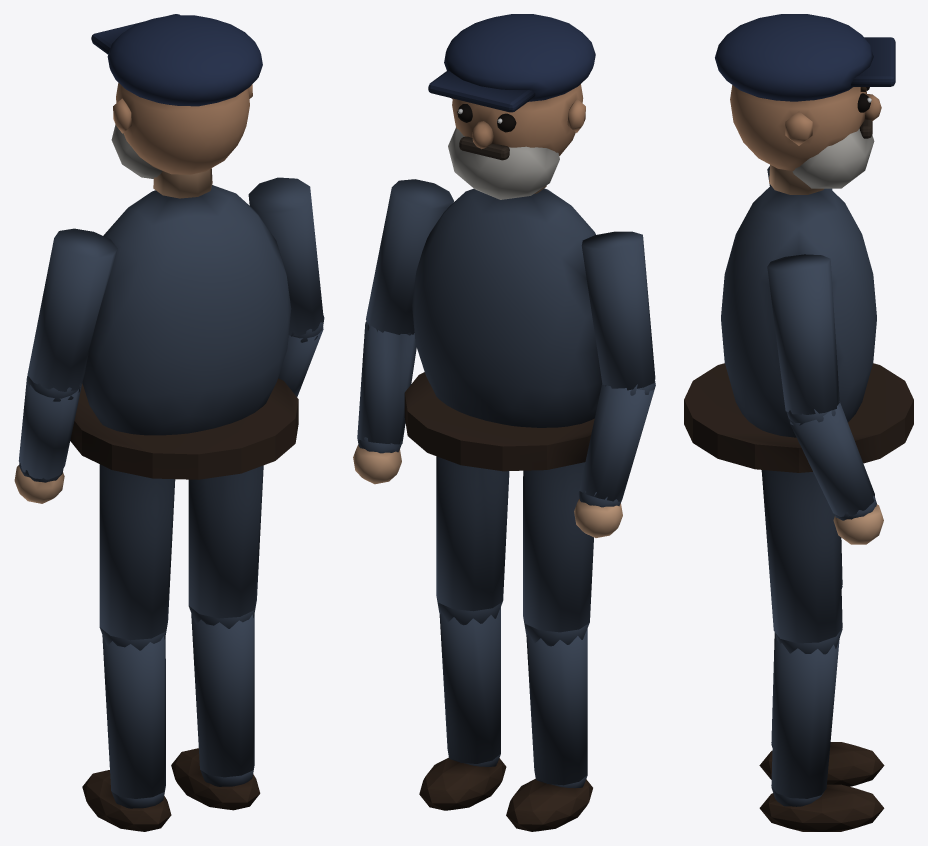
Rendered from fisherman.glb.
3 renders of one model, left to right at view 1: azimuth 30°, elevation 25°; view 2: azimuth 150°, elevation 25°; view 3: azimuth 270°, elevation 25°, orthographic. The views are drawn at different scales.
Visible parts, largest first — view 1: limb; view 2: limb; view 3: limb.
Part boxes in pixels (<box>): limb: <box>14,14,324,831</box>; limb: <box>353,14,655,831</box>; limb: <box>684,14,913,831</box>.
Size of the model in its own units: 0.7189 by 1.87 by 0.5.
